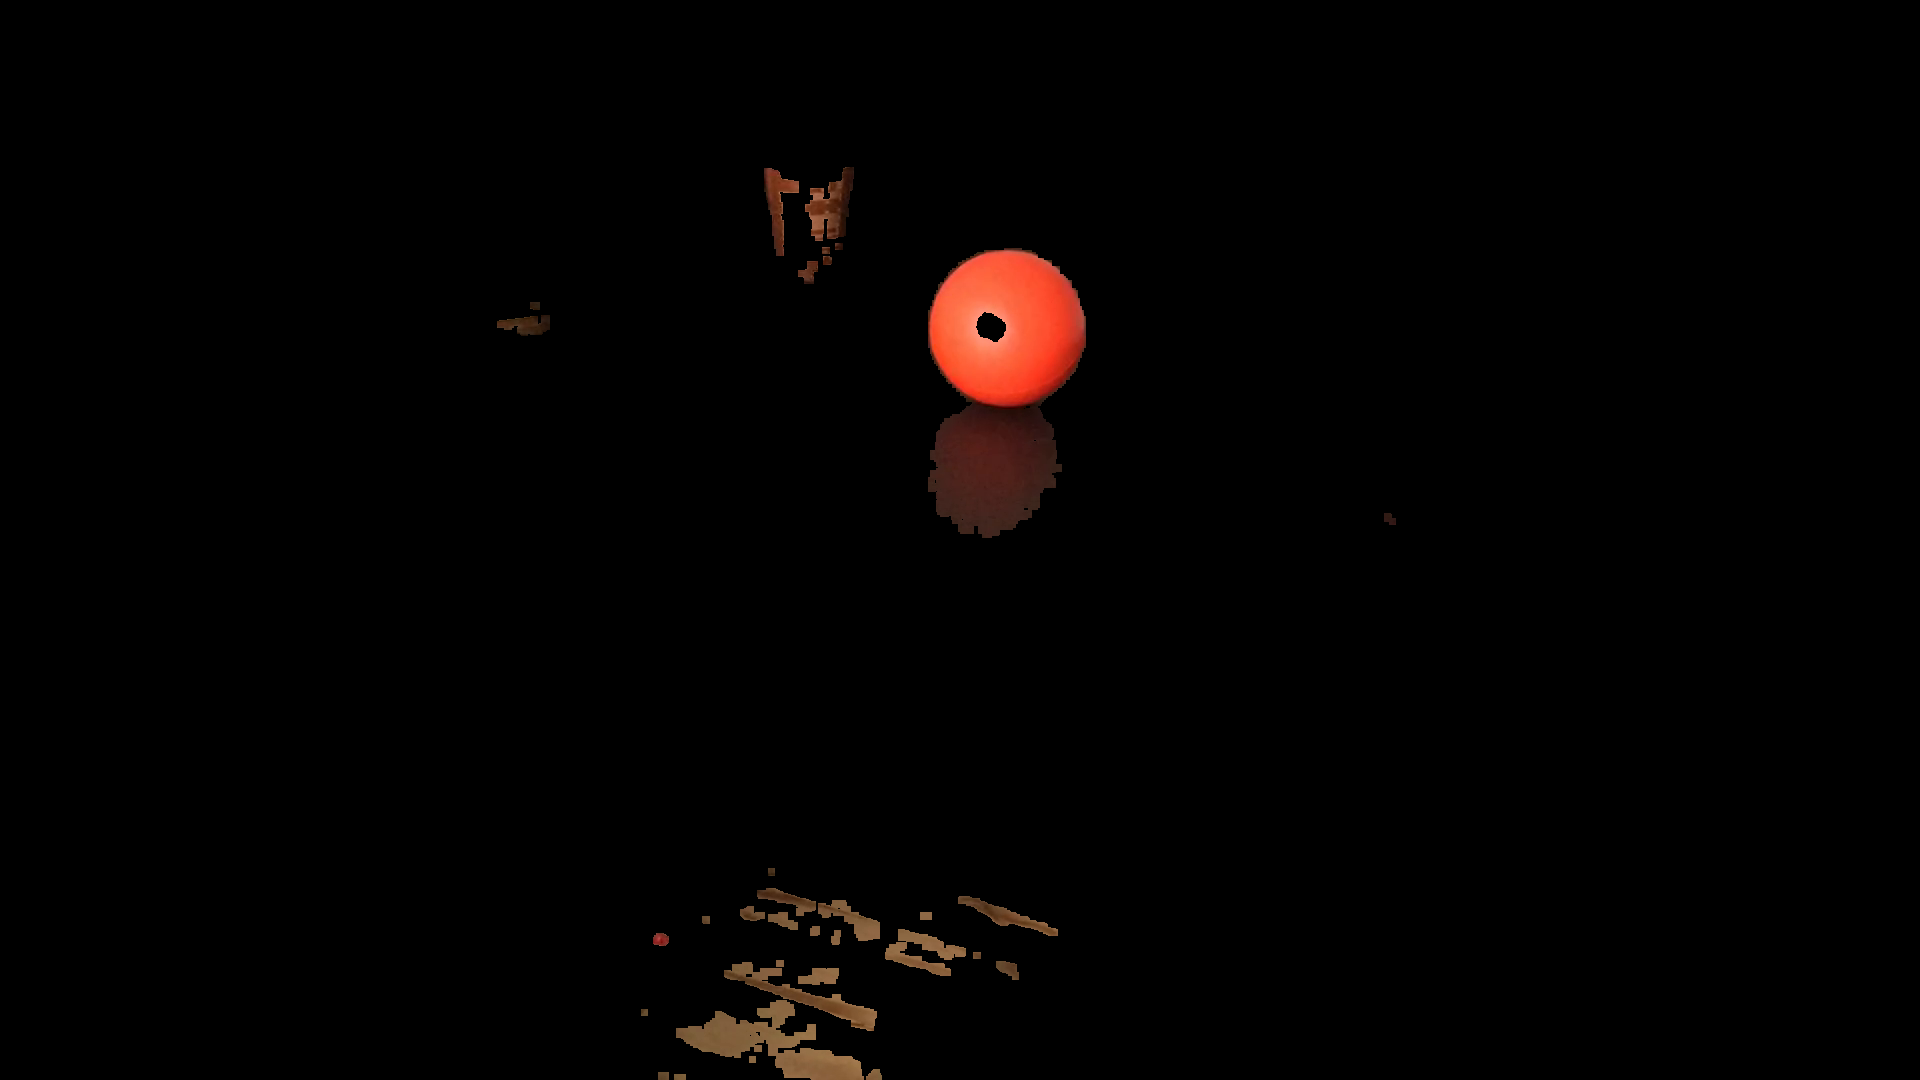Ball: (922, 249, 1091, 415)
